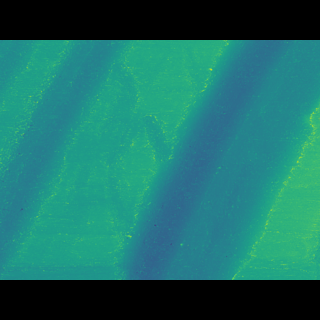Loch: (114, 69, 320, 250), (0, 69, 136, 245)
